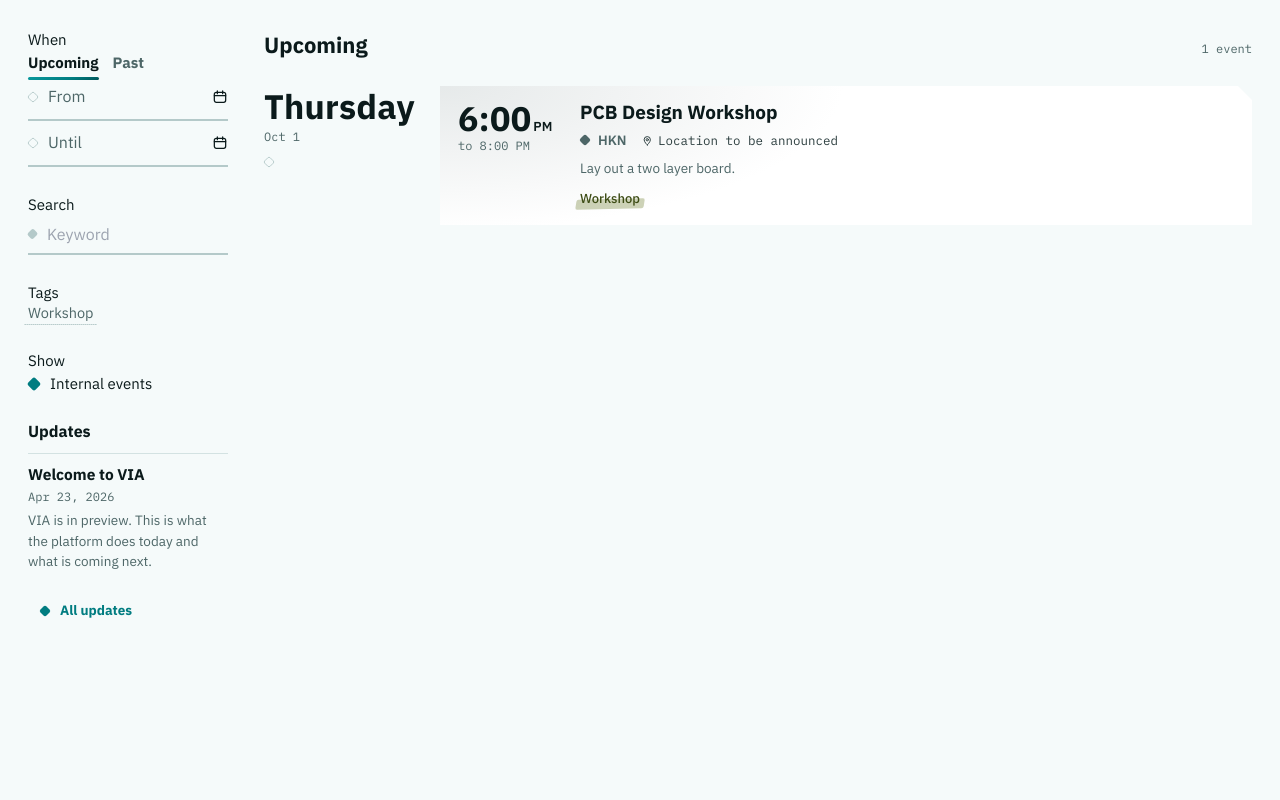
Home › goes back to upcoming events when the reader switches back
Click the button "Past".
click(128, 63)  # box [113, 51, 144, 75]
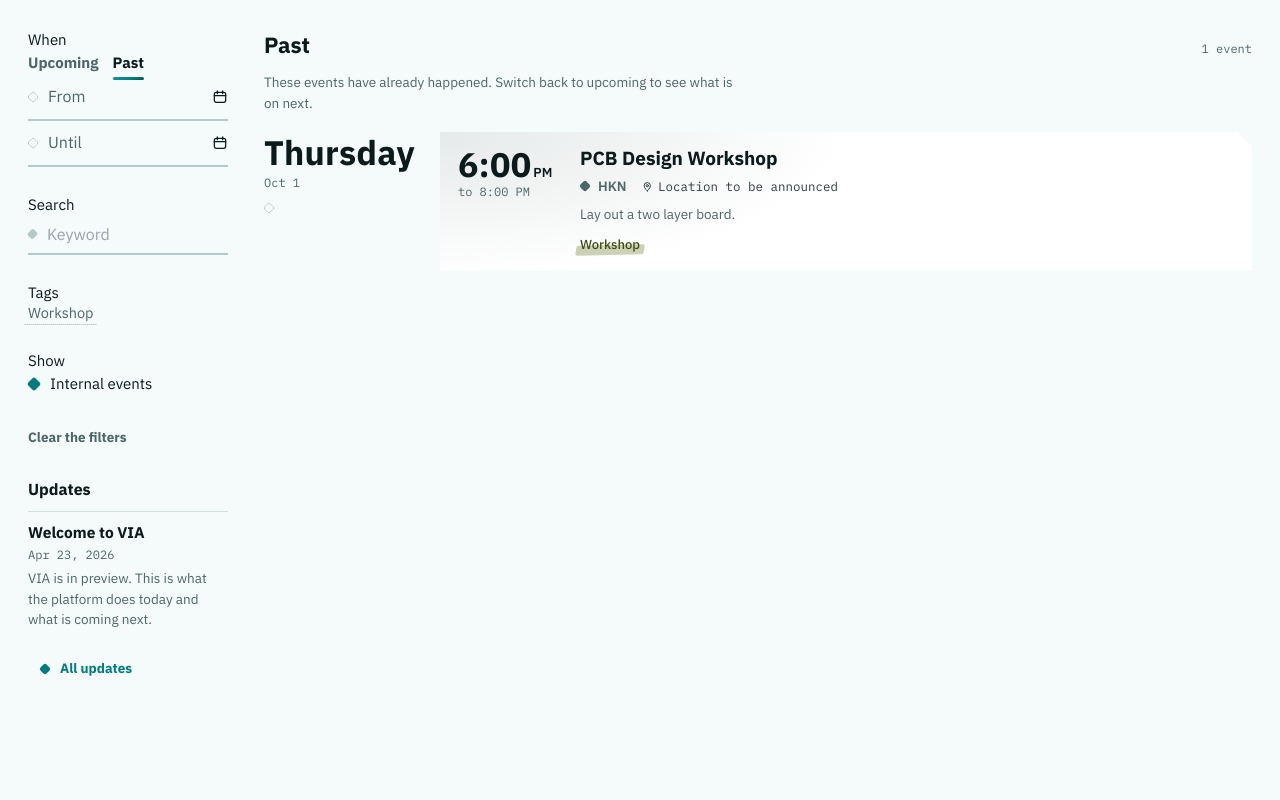
Click the button "Upcoming".
click(63, 63)  # box [28, 51, 99, 75]
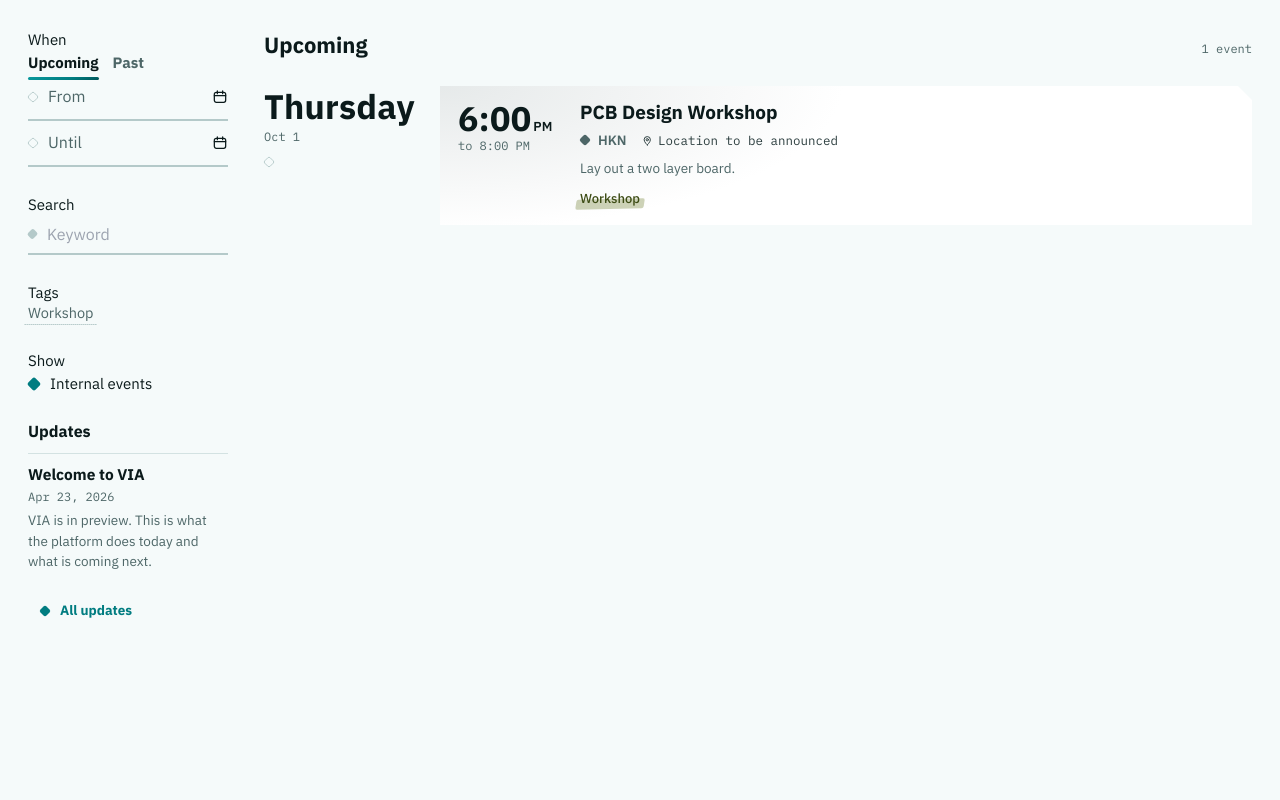
Now the heading "Upcoming" is shown, box [264, 28, 368, 62]
